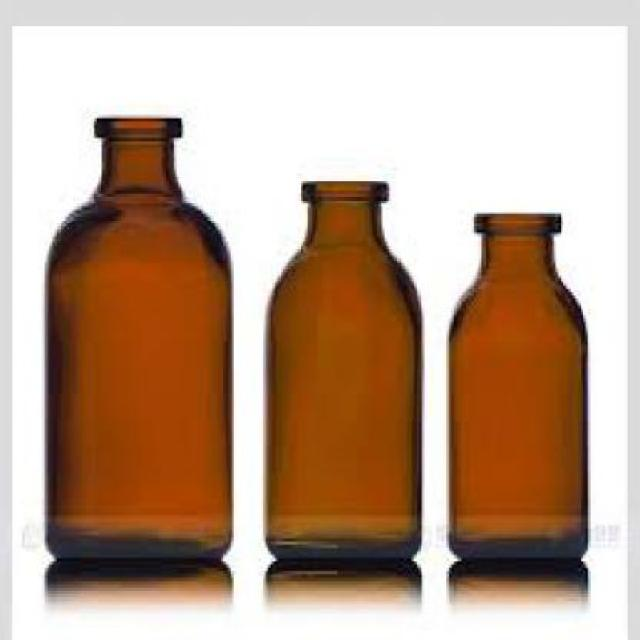kaca: (44, 116, 230, 562), (266, 180, 422, 565), (446, 210, 586, 568)
